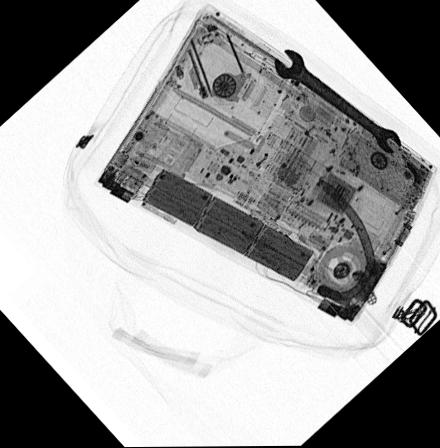Wrench: (274, 48, 402, 152)
